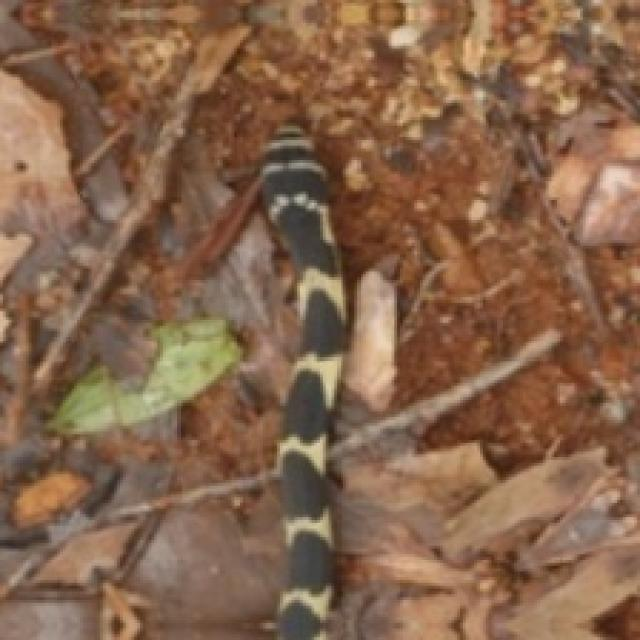king cobra: (260, 126, 343, 637)
